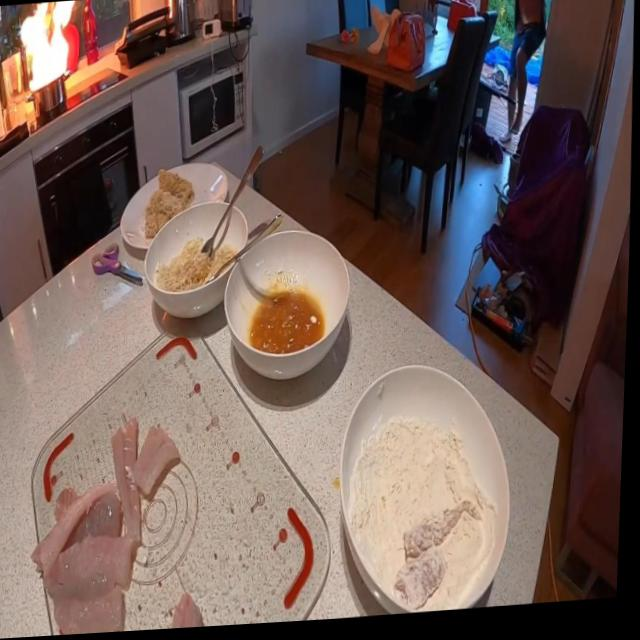fire: (15, 0, 76, 93)
